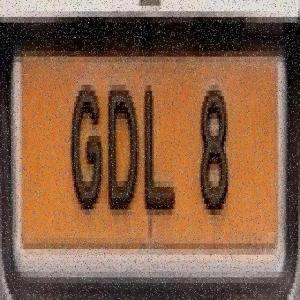Plate: (13, 29, 286, 273)
